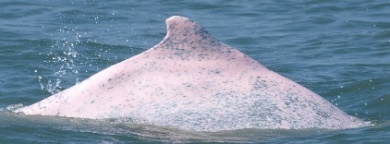fin: (22, 9, 378, 135)
